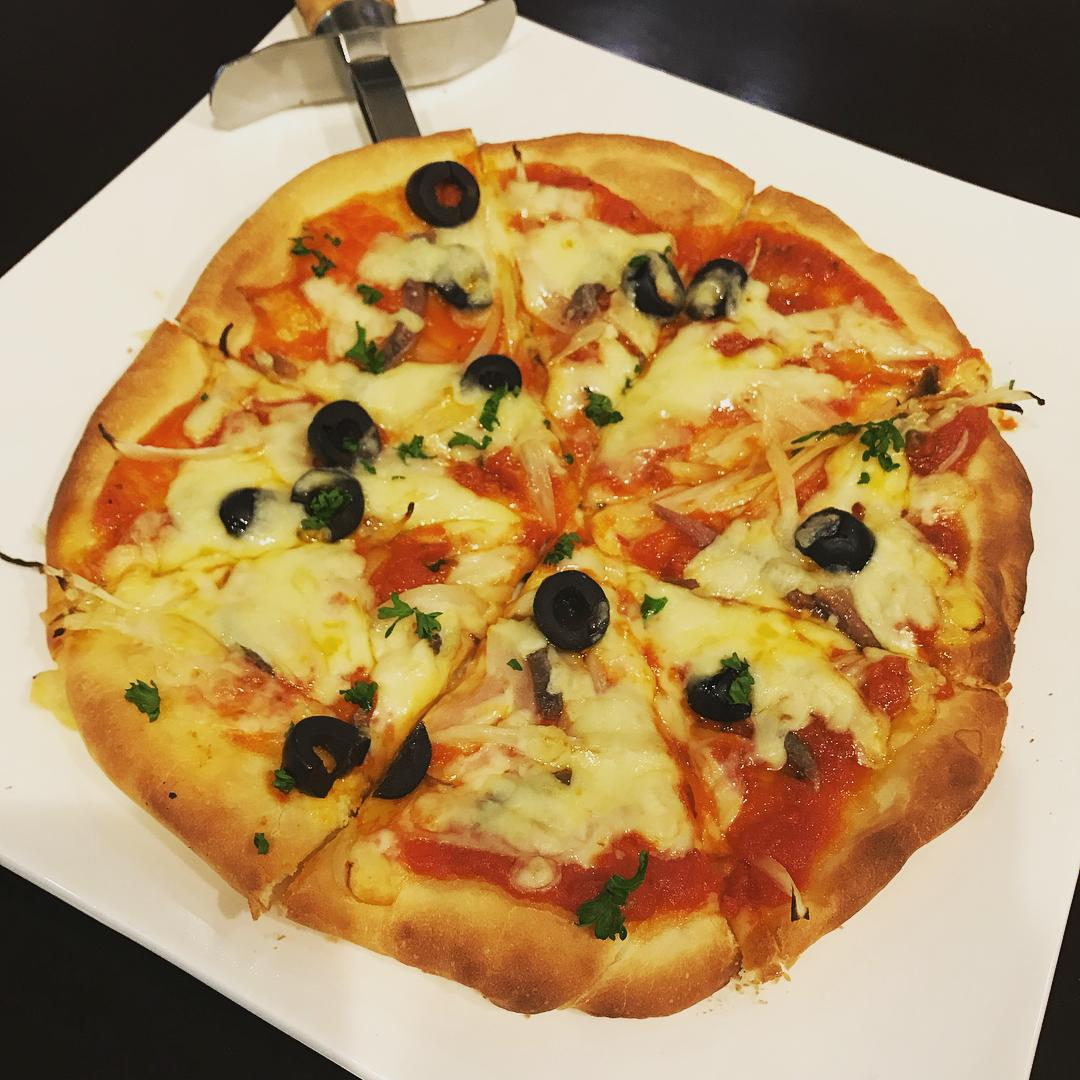Olives: (283, 716, 368, 798), (534, 570, 609, 651), (289, 468, 363, 545), (795, 506, 874, 573), (307, 401, 384, 467), (404, 160, 478, 227), (373, 719, 432, 800), (685, 257, 749, 321), (625, 251, 683, 320), (433, 243, 492, 308), (686, 666, 753, 722), (220, 487, 275, 540), (461, 353, 520, 399)
Pizza: (48, 128, 1033, 1018)
